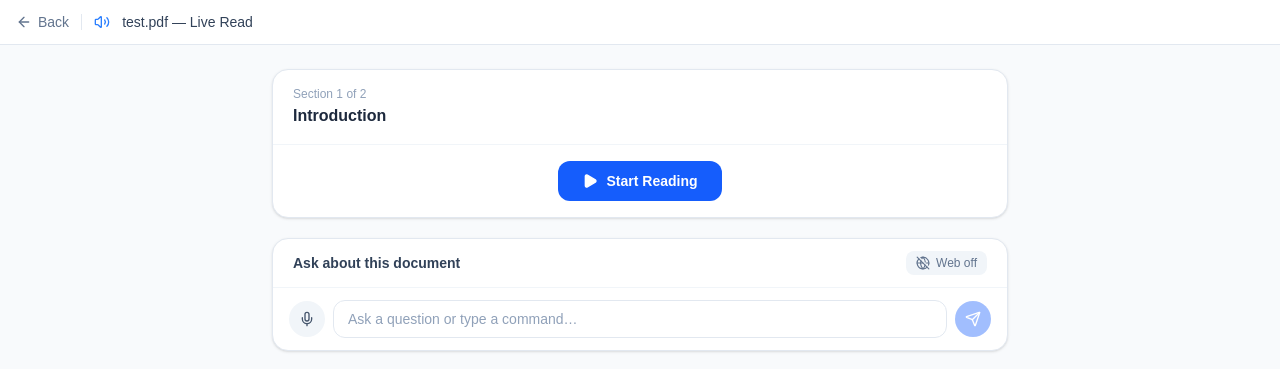
Test: LiveReader — web search toggle › toggles to 'Web on' when clicked
The image size is (1280, 369).
Click the button titled "enable web search".
click(947, 263)  # box top-left (906, 251), bottom-right (987, 275)
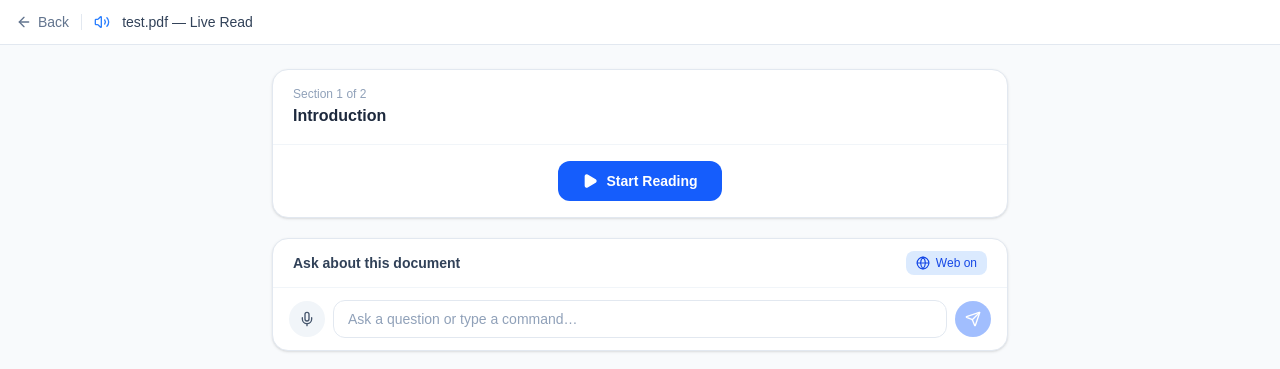
Expected: the button "Web on" is shown, top-left (906, 251), bottom-right (987, 275)
